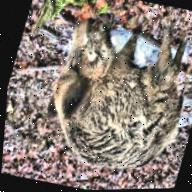boar: (25, 16, 192, 191)
